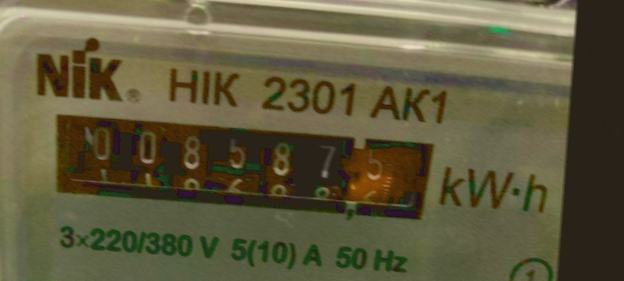0: (133, 125, 160, 167)
1: (87, 122, 114, 165)
5: (362, 143, 389, 185), (224, 133, 250, 173)
7: (313, 140, 339, 183)
8: (177, 131, 205, 173), (269, 137, 293, 180)
screen: (29, 93, 454, 242)
